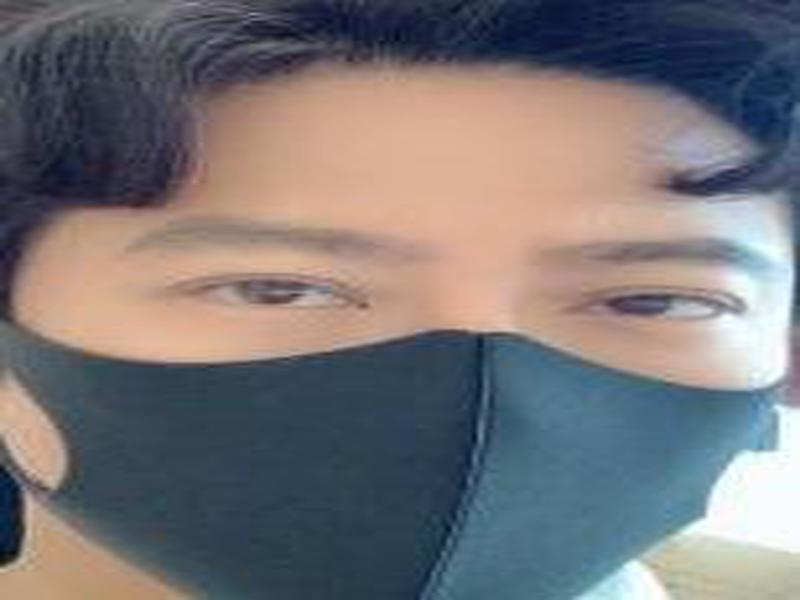with_mask: (1, 67, 791, 600)
